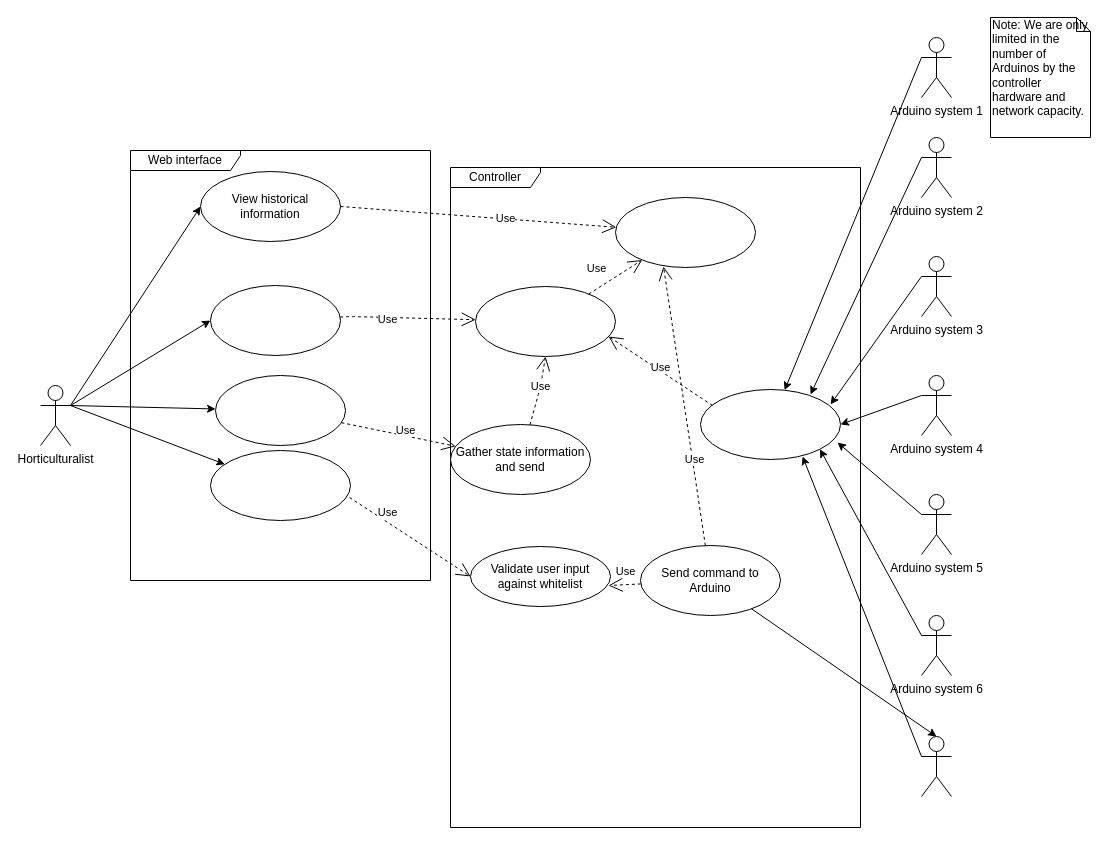
Image size: 1108x845. Some labels were removed from this diagram. The shapes that lost their labels are listed below. From the top down, each one's centre as x and y in pixels, then its label:
point (685, 232): Store relevant time series data
point (275, 320): Detailed individual system view
point (545, 321): Update Arduino proxy object
point (280, 410): View property across multiple machines
point (770, 424): Validate and accept state data
point (280, 485): Set property on one or more machine(s)
point (936, 766): Arduino system 7
